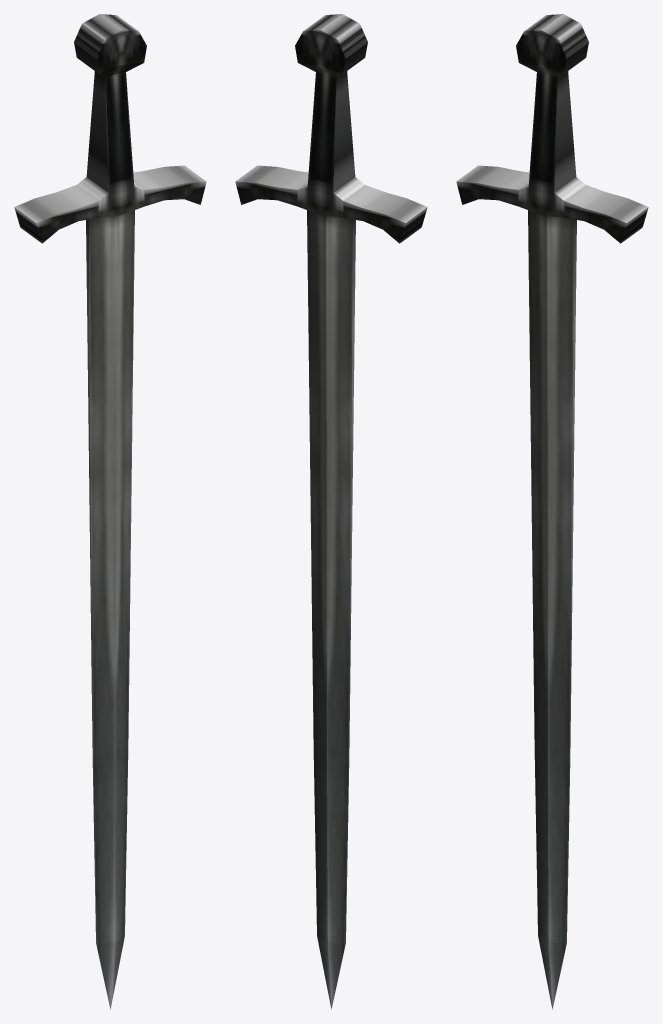
The model's file is Sword.fbx.
3 views of the same model, side by side, from view 1: azimuth 30°, elevation 25°; view 2: azimuth 150°, elevation 25°; view 3: azimuth 330°, elevation 25° (orthographic).
Visible parts, largest first — view 1: sword; view 2: sword; view 3: sword.
Part boxes in pixels (box(x1,y1,x2,y2)): sword: box(14, 14, 206, 1009); sword: box(235, 14, 427, 1009); sword: box(456, 14, 648, 1009).
Bounding box in the file's own units: 893 × 4948 × 200.
Materials: 1 (1 with a texture image).
